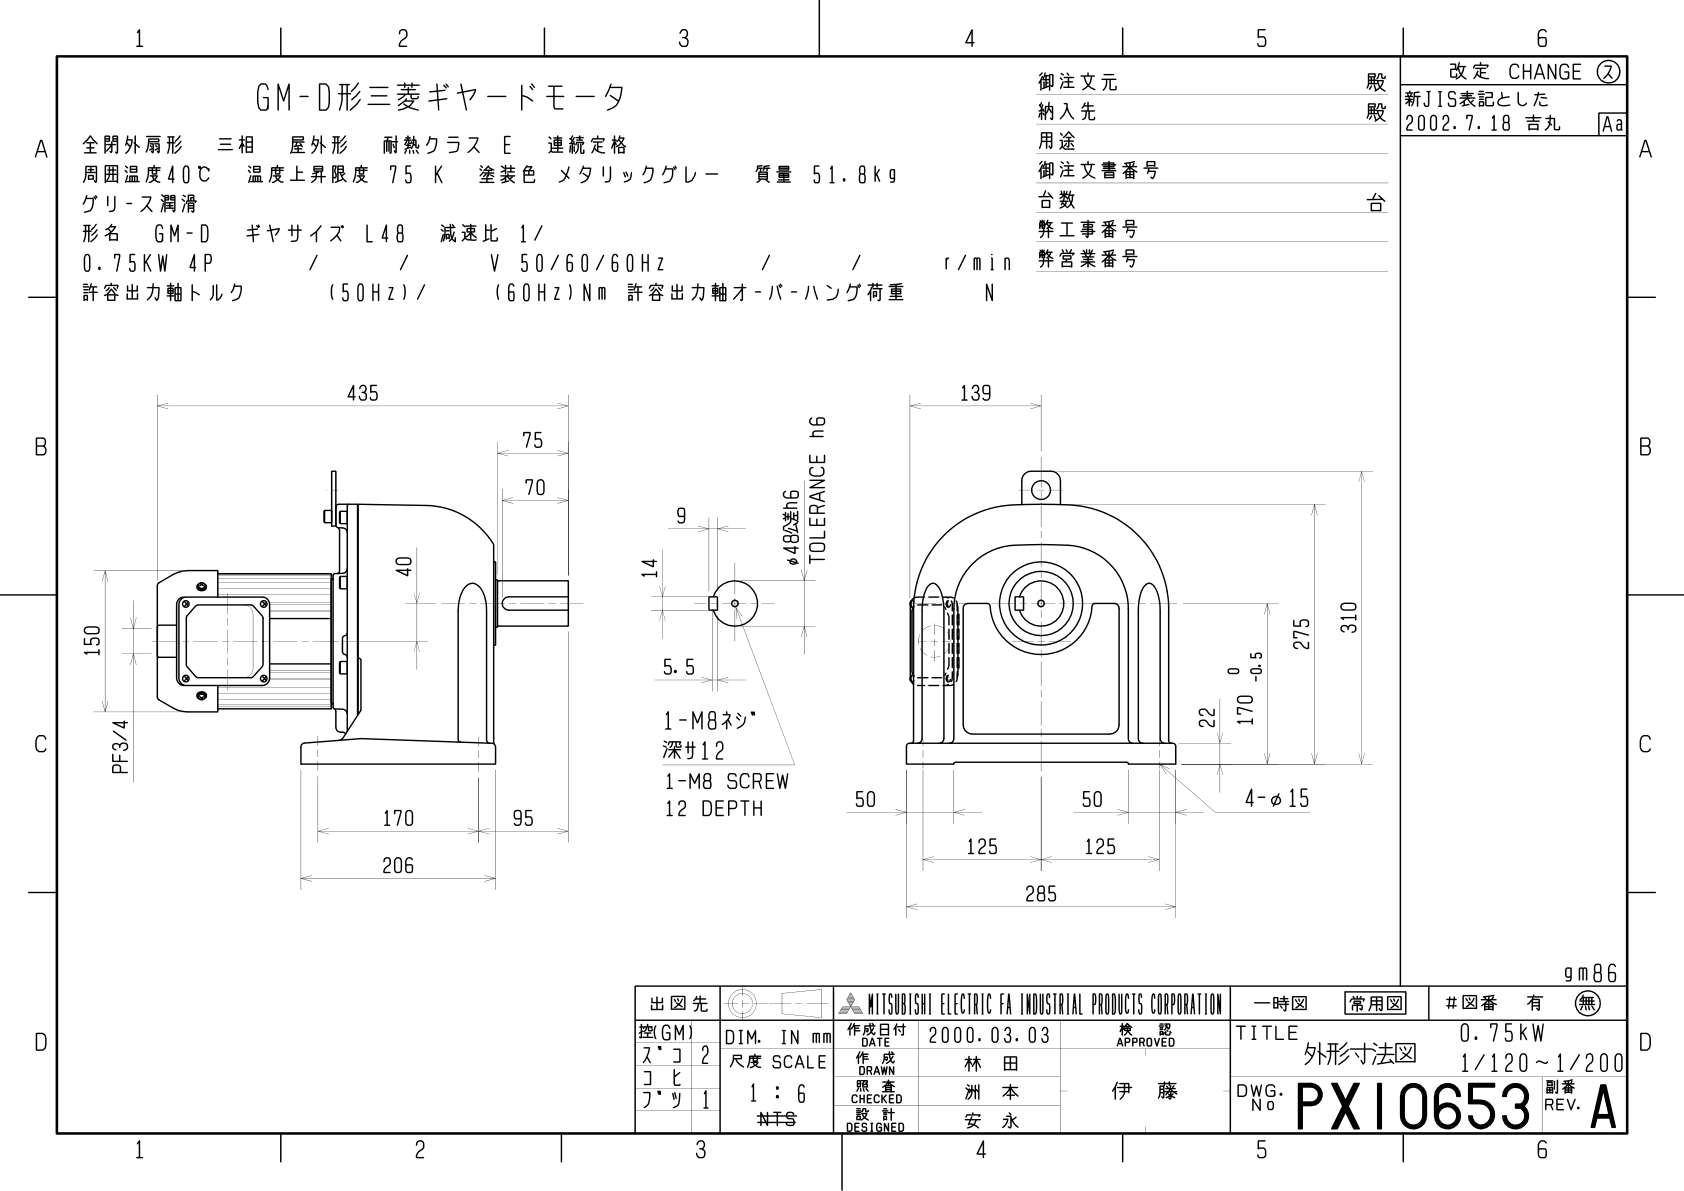GM_D_屋外＿三相_脚: (1, 1, 1678, 1181)
